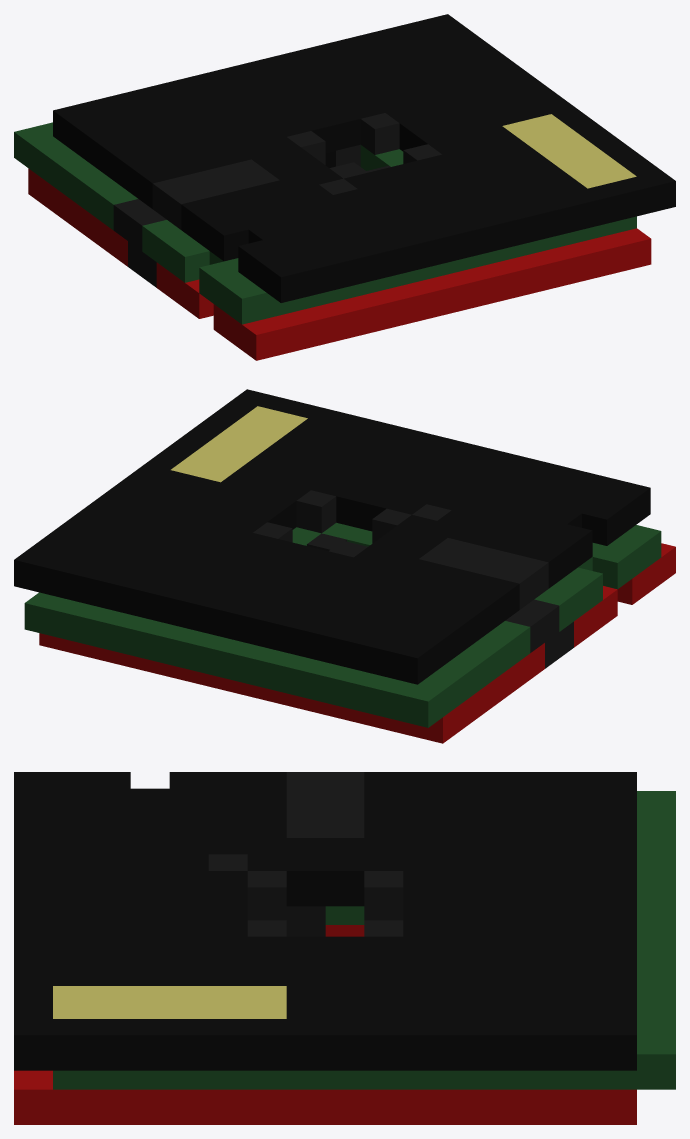
Rendered from 1980s Retroo Diskette Stack - Black, Green, Red.fbx.
3 views of the same model, one above another, from view 1: azimuth 30°, elevation 25°; view 2: azimuth 150°, elevation 25°; view 3: azimuth 270°, elevation 25° (orthographic). The views are drawn at different scales.
Parts seen in each view (by area): view 1: 1980sStackof525inchFloppyDisks; view 2: 1980sStackof525inchFloppyDisks; view 3: 1980sStackof525inchFloppyDisks.
Part boxes in pixels (x1,y1,x2,y2): 1980sStackof525inchFloppyDisks: (14,14,675,360); 1980sStackof525inchFloppyDisks: (14,389,675,743); 1980sStackof525inchFloppyDisks: (14,772,675,1124).
Bounding box in the file's own units: 1700 × 300 × 1700.
